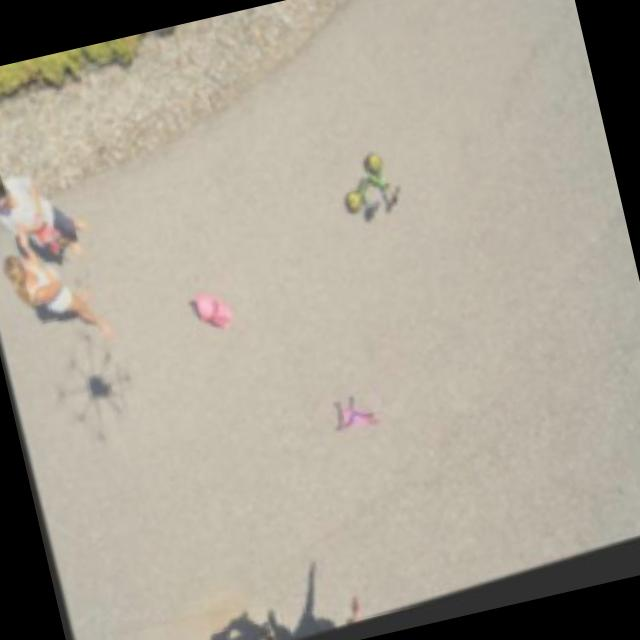Person: (0, 233, 115, 364), (0, 147, 95, 281)
